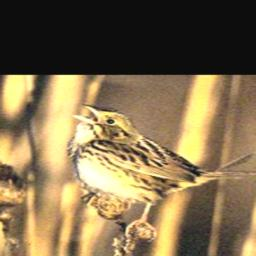Sparrow: (69, 103, 256, 240)
